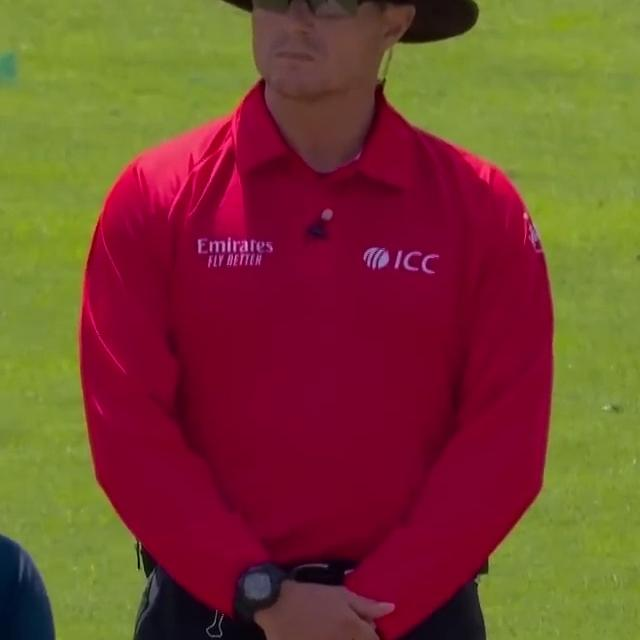umpire: (22, 0, 593, 640)
